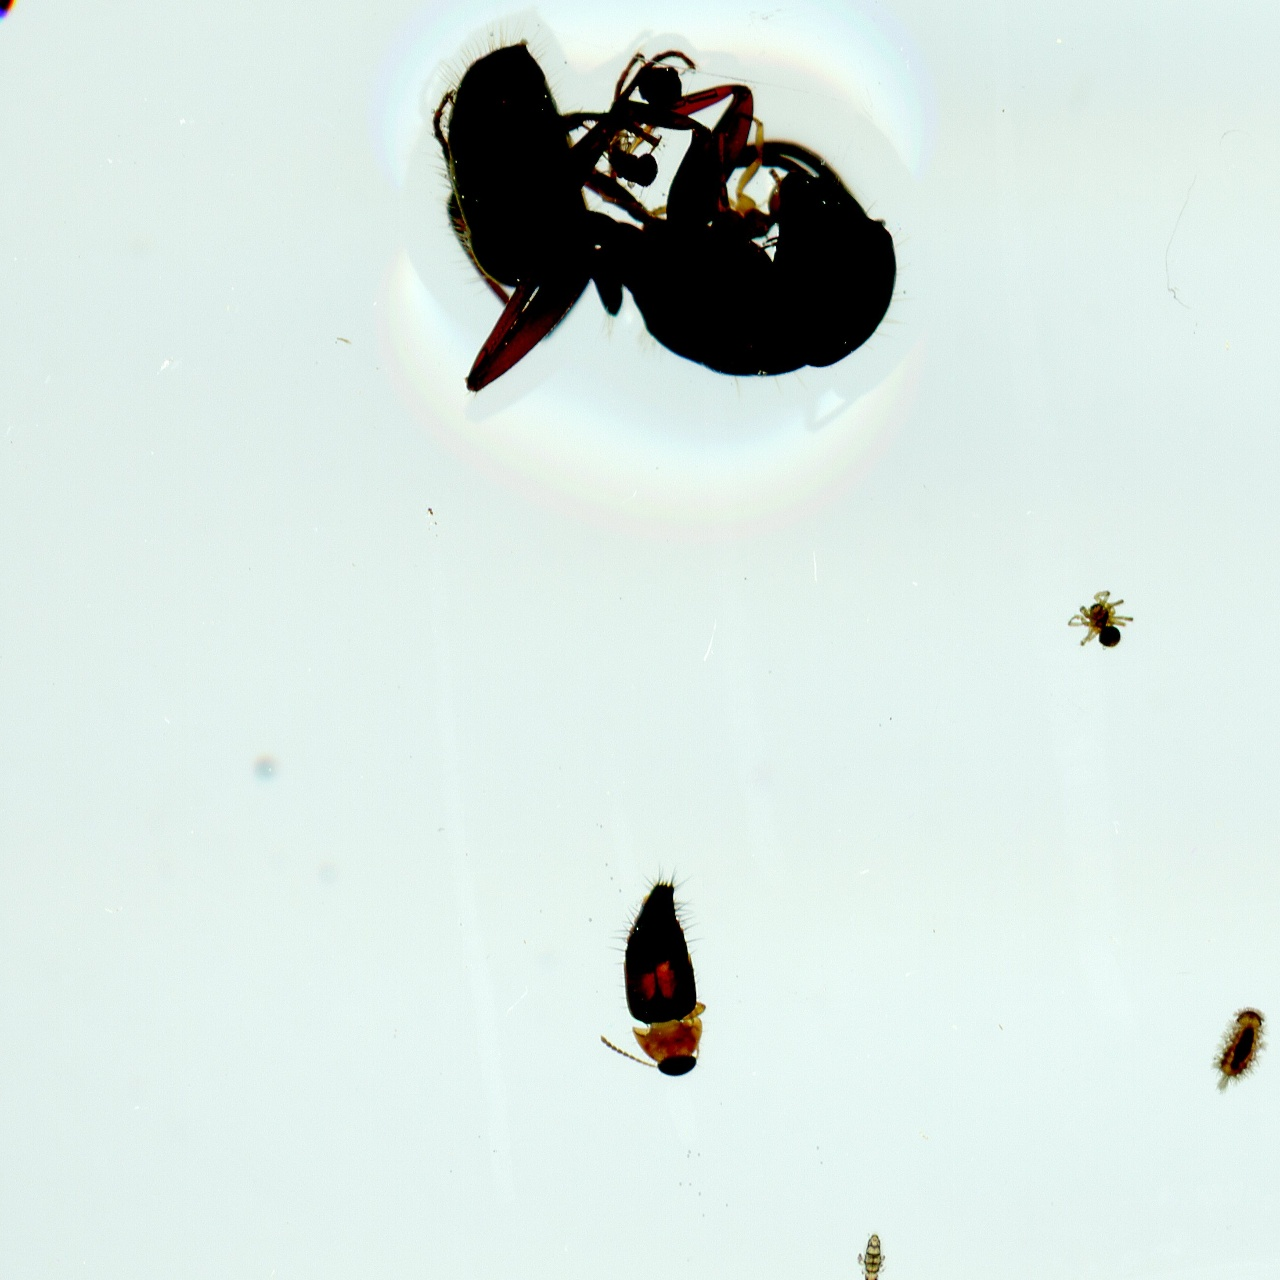arthropod: (428, 32, 901, 391), (604, 863, 714, 1095), (1210, 1003, 1264, 1092), (1063, 584, 1132, 653), (847, 1224, 892, 1280)
